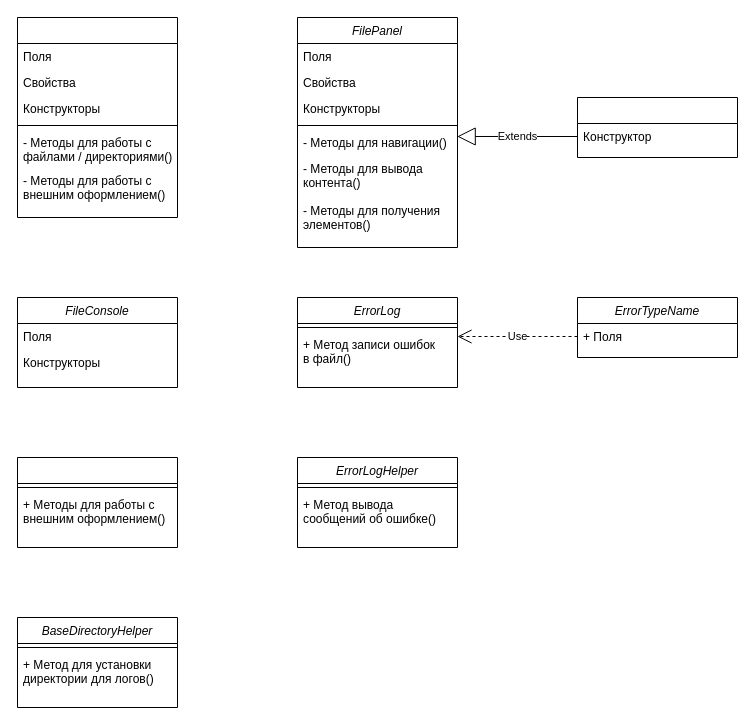
Image size: 755x725. Some labels were removed from this diagram. The box of each missing label's shape, as (x1, y1, x2, y2) in pixels:
FileConsoleHelper: (16, 456, 178, 548)
FileInfoPanel: (576, 96, 738, 158)
FileManager: (16, 16, 178, 218)
